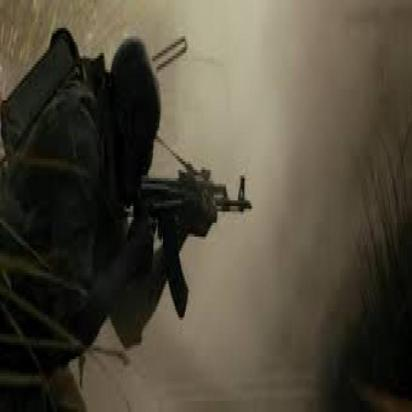Gun: (130, 162, 254, 323)
